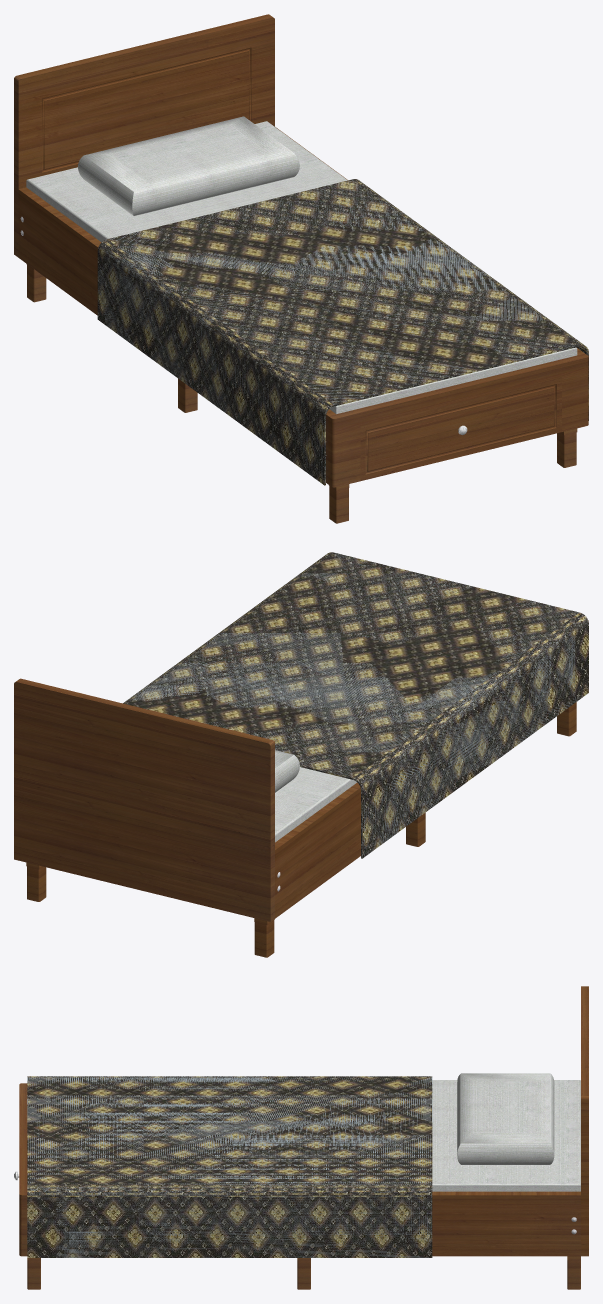
3 views of the same model, one above another, from view 1: azimuth 30°, elevation 25°; view 2: azimuth 150°, elevation 25°; view 3: azimuth 270°, elevation 25° (orthographic). The views are drawn at different scales.
Visible parts, largest first — view 1: Couverture, E (×2), Perna, I (×2), Saltea, C, B, A (×2); view 2: Couverture, E, B, Saltea, A (×4), Perna; view 3: Couverture, B, Perna, Saltea, E, C, A (×3).
Boxes of the visible parts, box(x1,y1,x2,y2) form: Couverture: box(97, 179, 588, 485); E (×2): box(14, 14, 274, 257); Perna: box(78, 116, 299, 215); I (×2): box(360, 377, 561, 480); Saltea: box(26, 121, 577, 413); C: box(328, 353, 588, 487); B: box(18, 187, 335, 483); A (×2): box(329, 428, 577, 523); Couverture: box(123, 552, 588, 858); E: box(14, 678, 274, 921); B: box(275, 782, 360, 918); Saltea: box(275, 767, 356, 842); A (×4): box(26, 702, 576, 957); Perna: box(275, 750, 299, 792); Couverture: box(27, 1076, 432, 1257); B: box(432, 1191, 580, 1256); Perna: box(457, 1073, 554, 1164); Saltea: box(432, 1080, 580, 1191); E: box(581, 986, 588, 1256); C: box(19, 1083, 27, 1256); A (×3): box(27, 1256, 580, 1289).
Size of the model in its own units: 39.76 by 83.86 by 31.5.
Materials: 7 (5 with a texture image).
